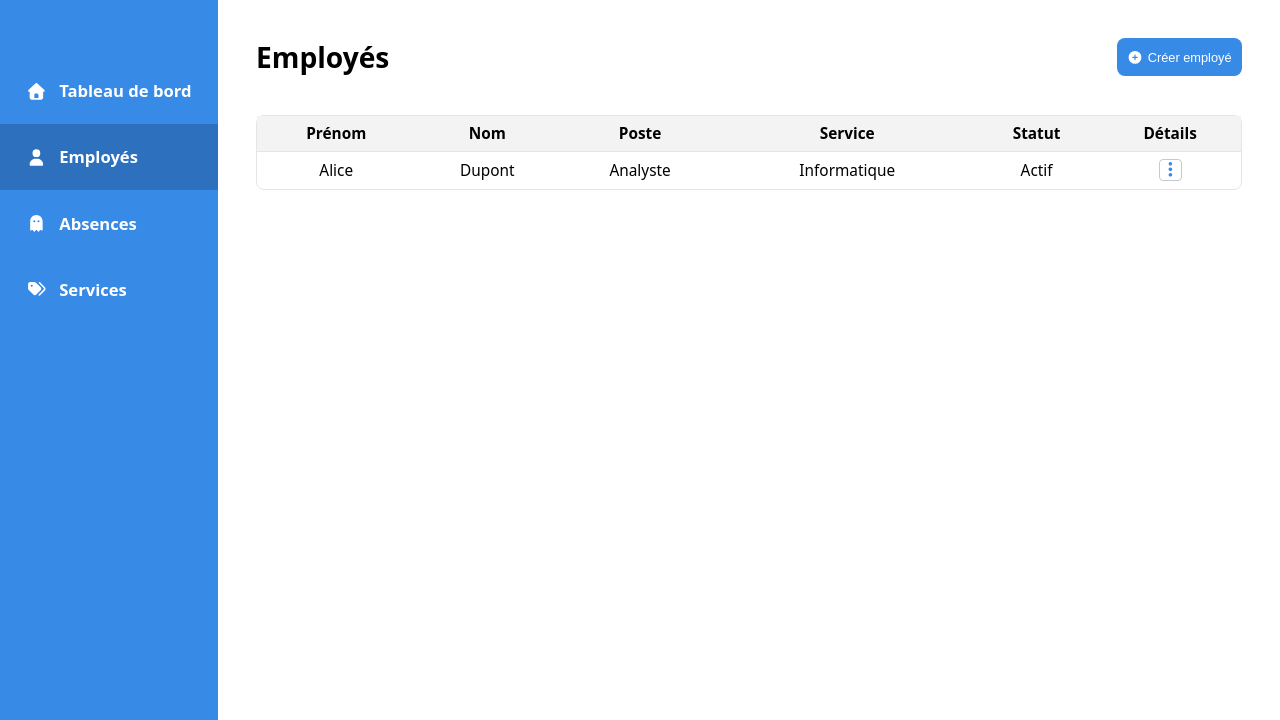
Scenario: Création d'une absence › envoie une absence valide et l'affiche dans le tableau
Click the link to "/absences" at [82, 224], box [26,212,137,235]
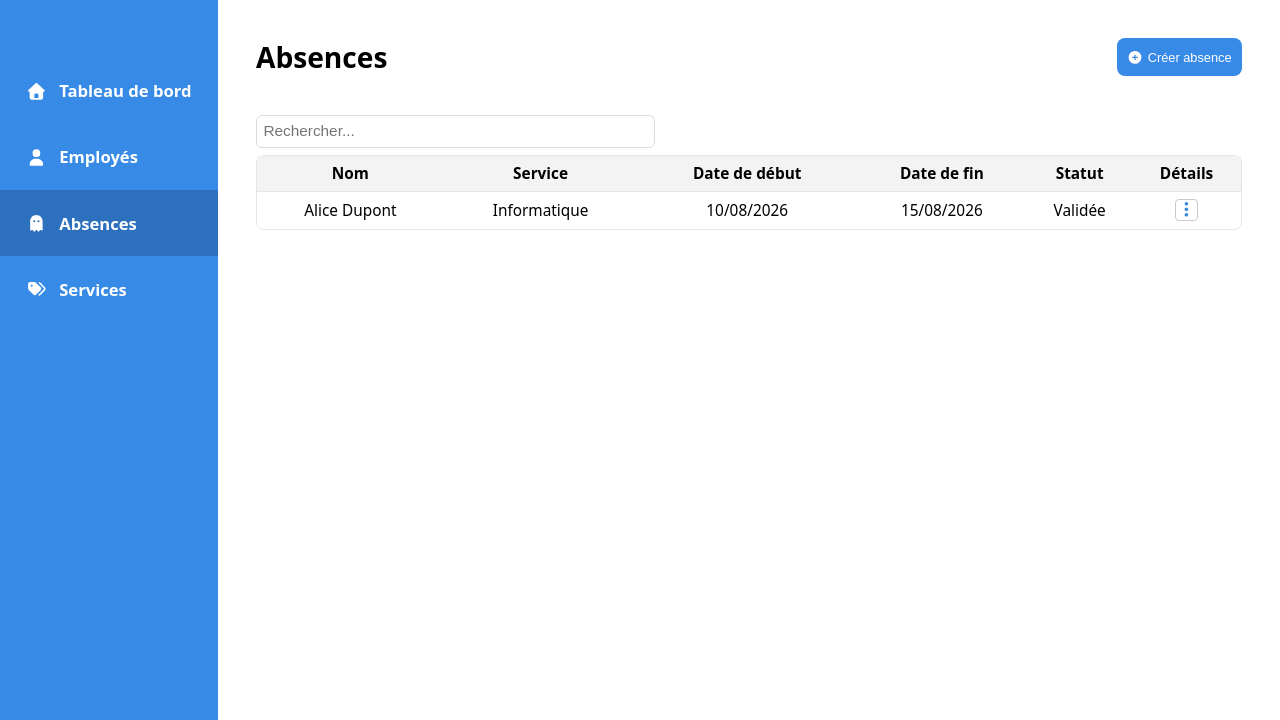
Click the button with class "create-button" at [1180, 57], box [1117,38,1242,76]
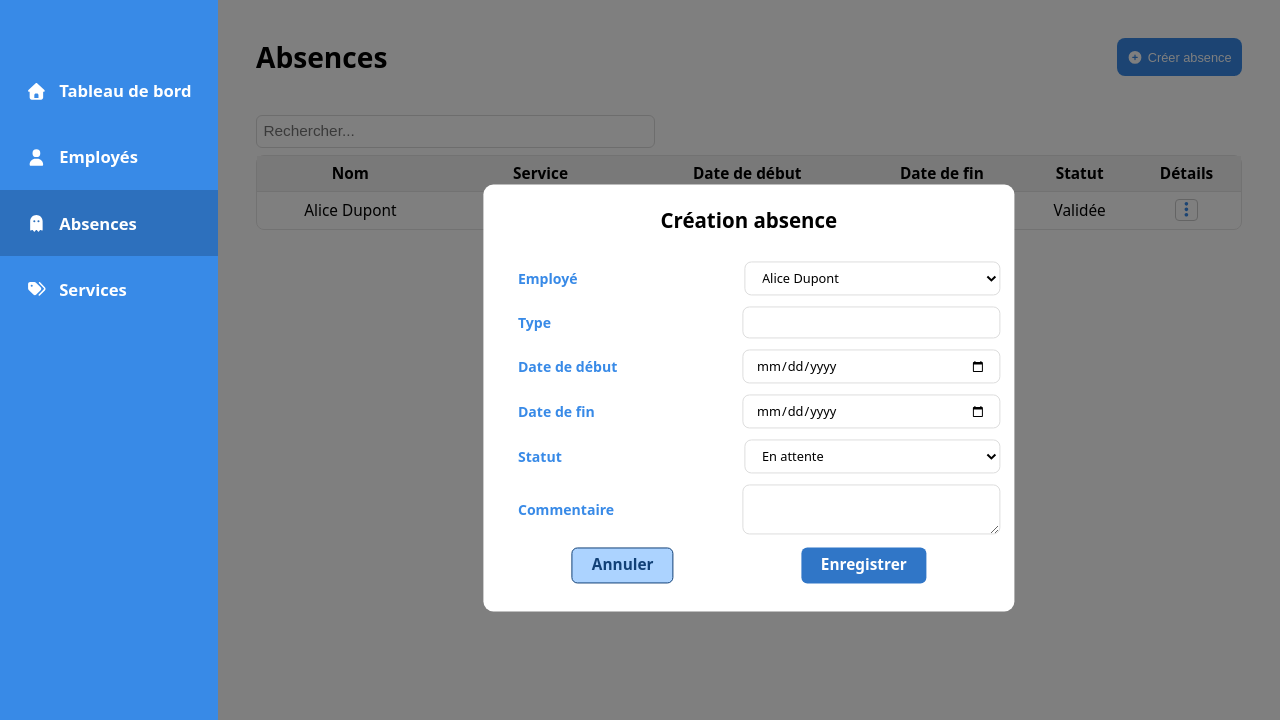
Type "Formation" into the field named "type" at [871, 323], box [742,307,1000,339]
Type "2026-09-01" into the date field named "startDate" at [871, 367], box [742,350,1000,384]
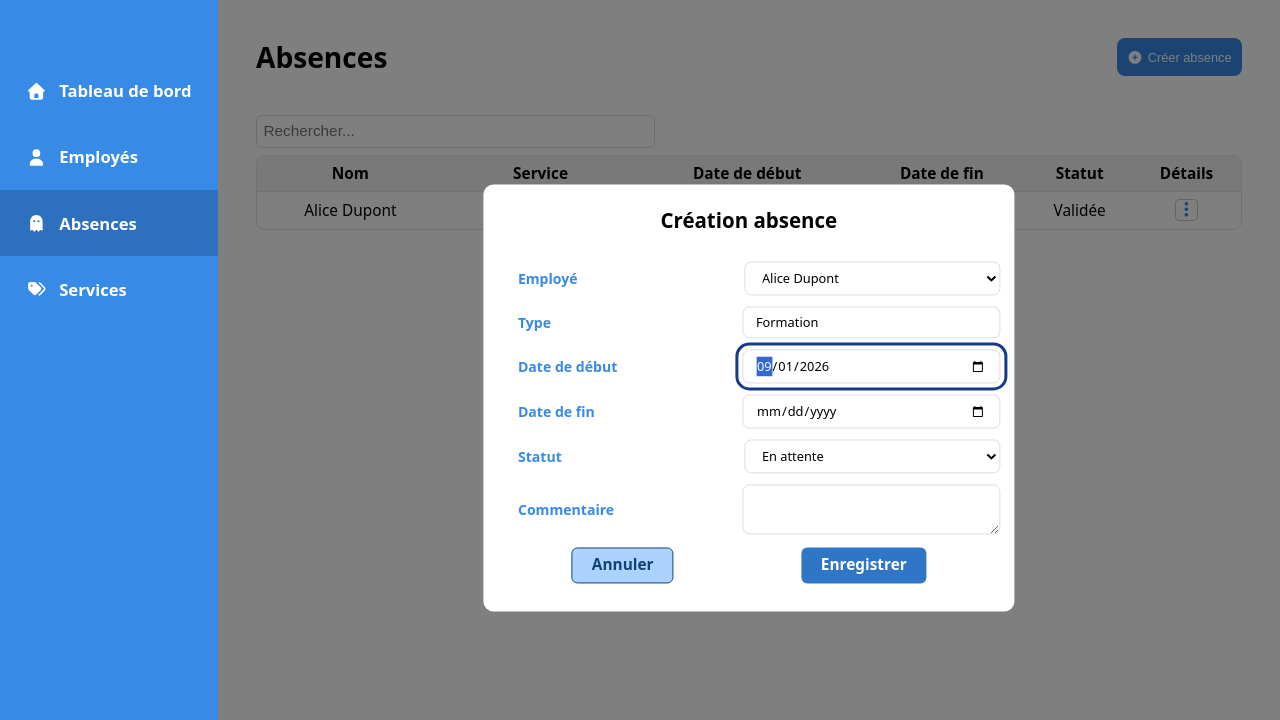
Type "2026-09-03" into the date field named "endDate" at [871, 412], box [742,395,1000,429]
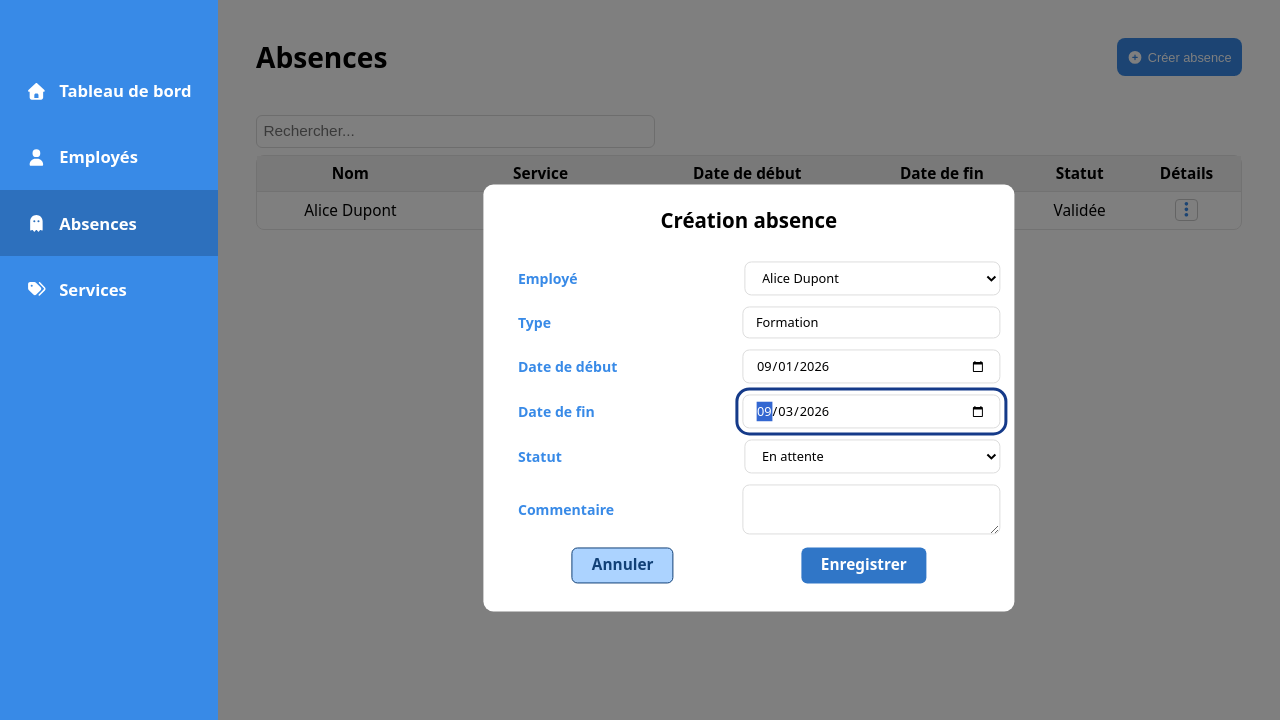
Select "En attente" in the dropdown named "status" at [872, 457], box [744,440,1000,474]
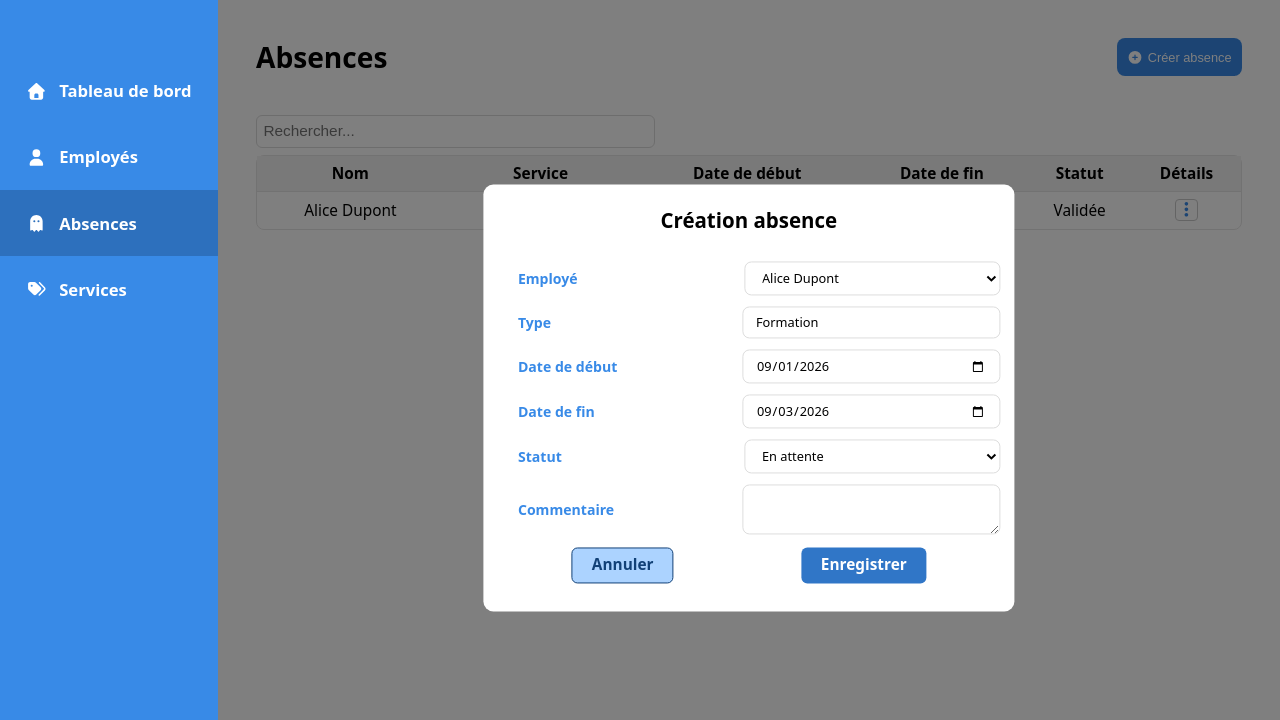
Type "Formation sécurité" into the text box named "comment" at [871, 510], box [742,485,1000,535]
Click the submit button at [864, 565], box [802,547,926,583]
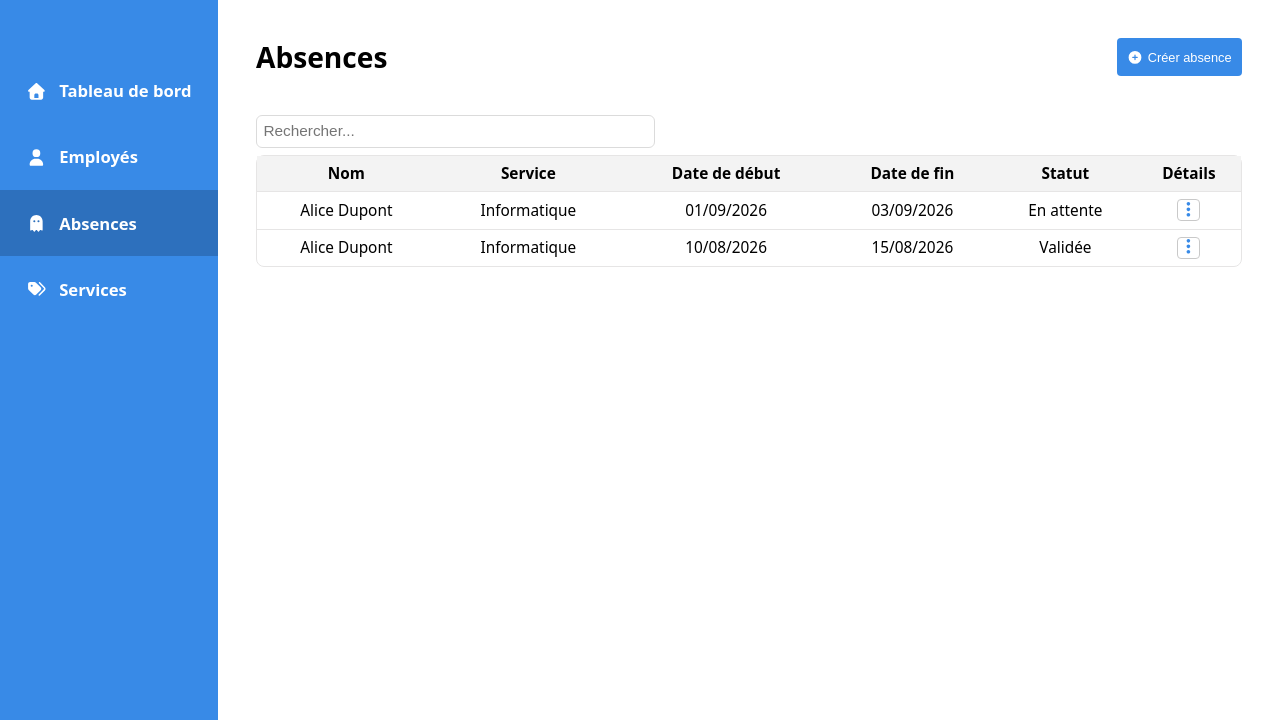
Expected: the text "01/09/2026" is shown, [621,191,831,228]
Expected: the text "03/09/2026" is shown, [831,191,994,228]
